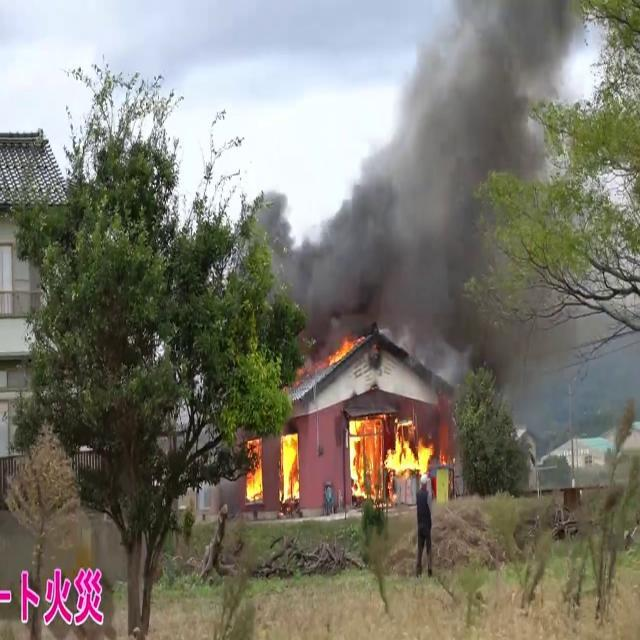Fire: (343, 414, 387, 502), (385, 422, 435, 482), (278, 428, 300, 501)
Smoke: (279, 0, 589, 361)
